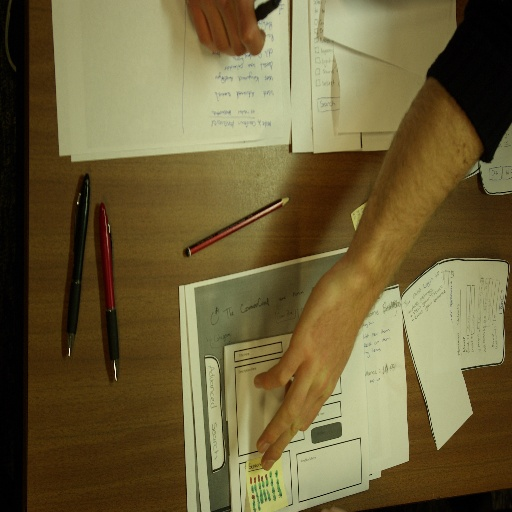hand: (252, 258, 375, 474), (185, 1, 269, 44)
